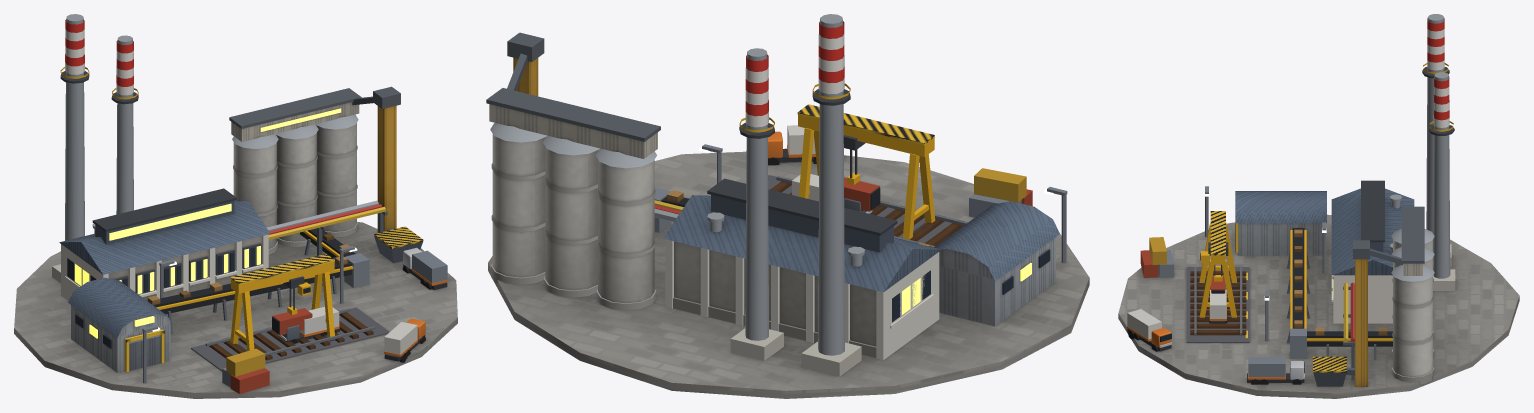
Rendered from factory_l2.glb.
The picture shows the model from 3 angles, left to right: view 1: azimuth 30°, elevation 25°; view 2: azimuth 150°, elevation 25°; view 3: azimuth 270°, elevation 25°; orthographic projection. The views are drawn at different scales.
Visible parts, largest first — view 1: factory_l2; view 2: factory_l2; view 3: factory_l2.
Boxes of the visible parts, <box> form: factory_l2: <box>14,14,457,398</box>; factory_l2: <box>486,14,1089,398</box>; factory_l2: <box>1118,14,1519,398</box>.
Bounding box in the file's own units: 1.49 × 0.96 × 1.4.
Materials: 3 (1 with a texture image).
